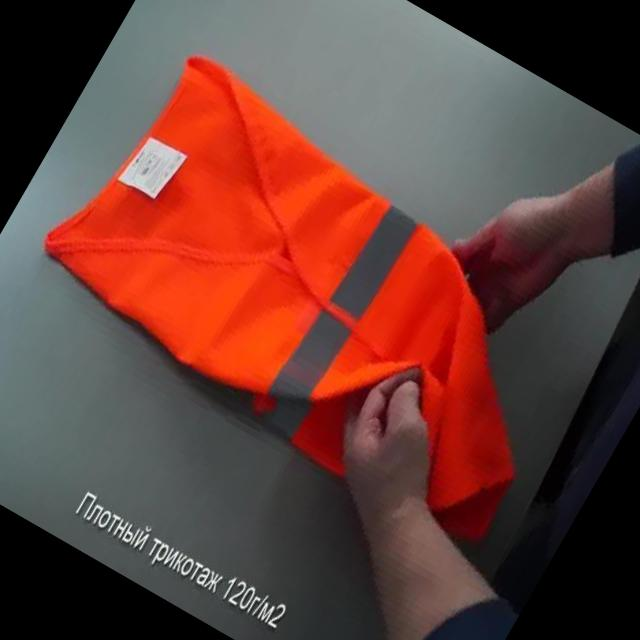safety_vest: (12, 29, 624, 556)
